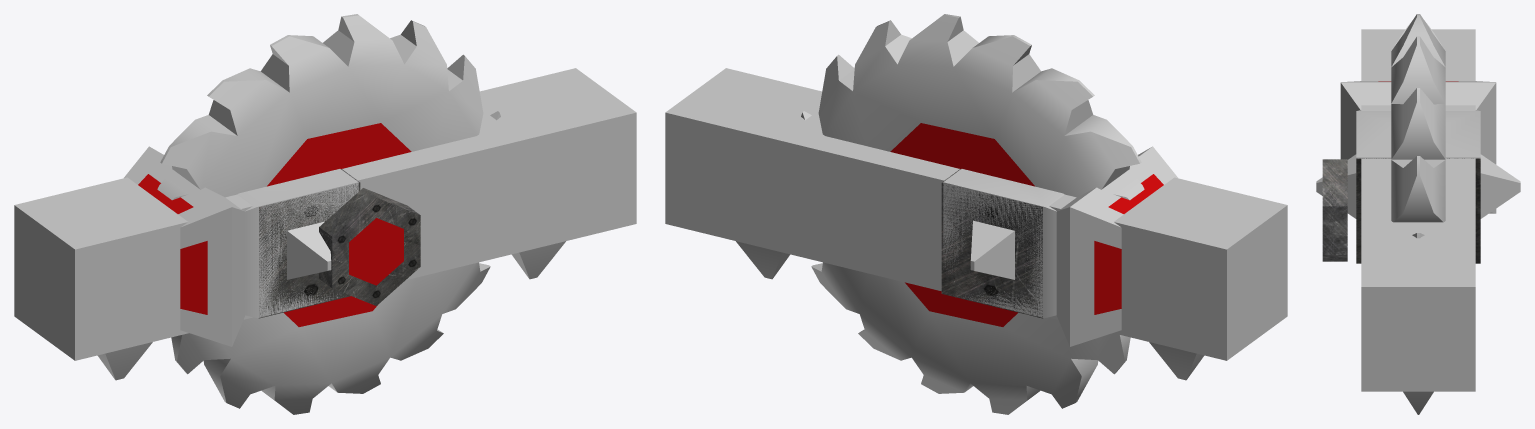
The model's file is Platforms Reloaded.fbx.
3 views of the same model, side by side, from view 1: azimuth 30°, elevation 25°; view 2: azimuth 150°, elevation 25°; view 3: azimuth 270°, elevation 25° (orthographic). The views are drawn at different scales.
Visible parts, largest first — view 1: BASE PLATFORM, SAW (2), SPEAR, PIN (2), SIDE PARTS, SPIKES (2); view 2: BASE PLATFORM, SAW (2), SPEAR, SIDE PARTS, SPIKES (2); view 3: BASE PLATFORM, SAW (2), SPEAR, PIN (2), SIDE PARTS, SPIKES (2).
Part boxes in pixels (<box>): BASE PLATFORM: <box>14,68,636,360</box>; SAW (2): <box>157,14,500,414</box>; SPEAR: <box>124,146,358,346</box>; PIN (2): <box>319,188,420,305</box>; SIDE PARTS: <box>259,169,360,318</box>; SPIKES (2): <box>97,241,565,380</box>; BASE PLATFORM: <box>665,68,1287,360</box>; SAW (2): <box>801,14,1144,414</box>; SPEAR: <box>943,146,1177,346</box>; SIDE PARTS: <box>941,169,1042,318</box>; SPIKES (2): <box>736,241,1204,380</box>; BASE PLATFORM: <box>1361,29,1475,391</box>; SAW (2): <box>1391,14,1445,238</box>; SPEAR: <box>1316,81,1520,218</box>; PIN (2): <box>1322,159,1347,261</box>; SIDE PARTS: <box>1356,158,1480,263</box>; SPIKES (2): <box>1403,391,1433,414</box>.
Size of the model in its own units: 3800 by 2500 by 1274.
